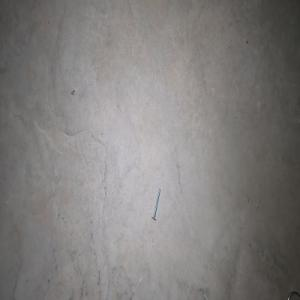Bolt: (151, 187, 160, 221)
